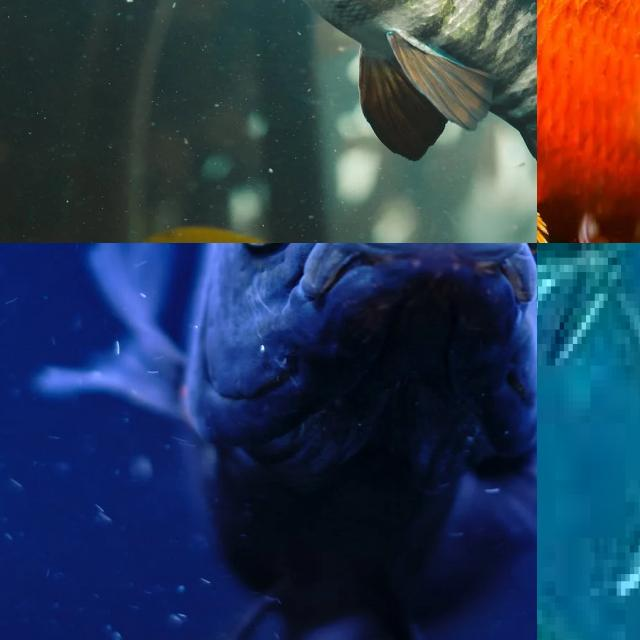fish: (34, 243, 537, 590), (0, 0, 537, 243), (537, 0, 640, 243), (537, 243, 640, 358)
